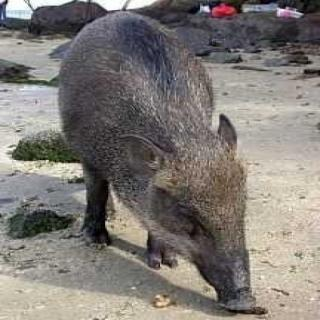Pig: (43, 19, 276, 310)
